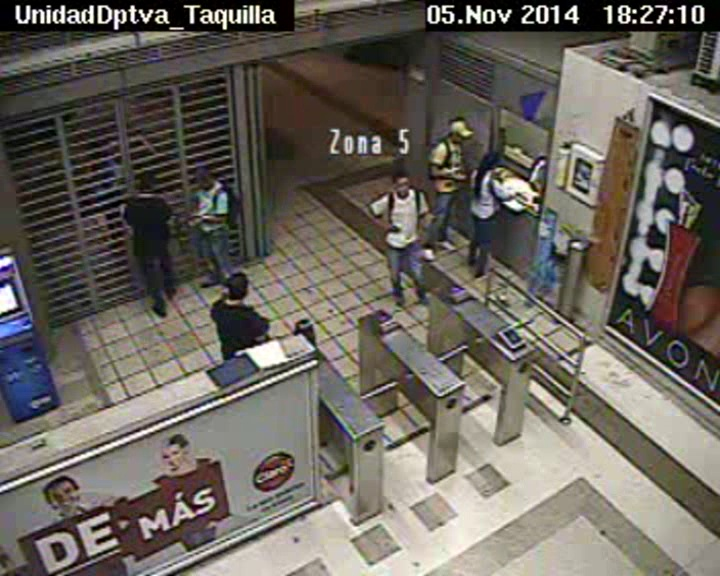person: (222, 273, 250, 305), (447, 115, 472, 145), (388, 170, 413, 198), (479, 145, 504, 172), (133, 170, 158, 196), (194, 166, 219, 192)
